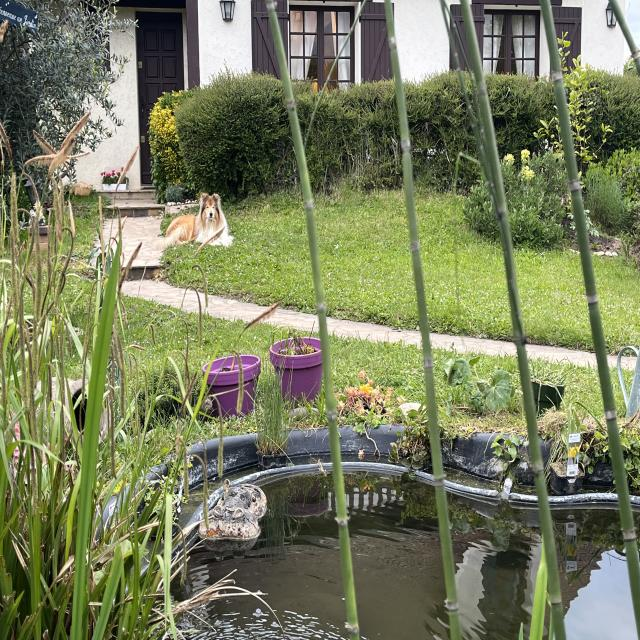Dog: (154, 180, 244, 256)
